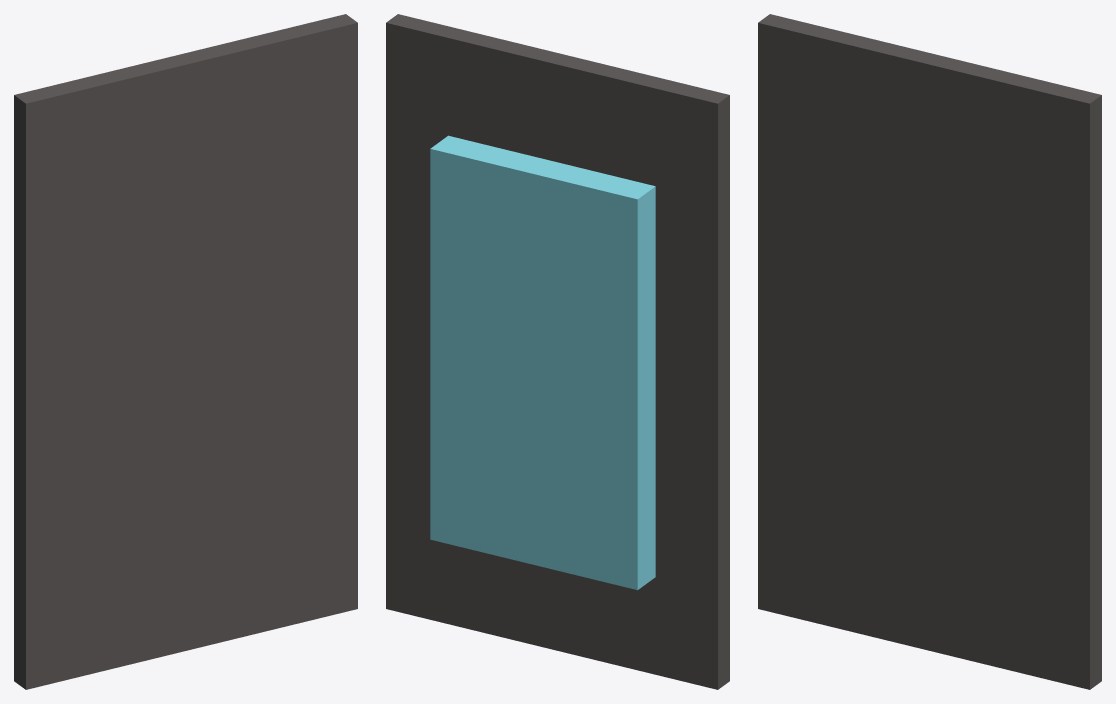
The model's file is lamp.glb.
The picture shows the model from 3 angles, left to right: view 1: azimuth 30°, elevation 25°; view 2: azimuth 150°, elevation 25°; view 3: azimuth 330°, elevation 25°; orthographic projection.
Visible parts, largest first — view 1: cuboid; view 2: cuboid (×2); view 3: cuboid.
Boxes of the visible parts, x1,y1,x2,y2 form: cuboid: (14, 14, 357, 689); cuboid (×2): (386, 14, 729, 689); cuboid: (758, 14, 1101, 689).
Size of the model in its own units: 0.2 by 0.3375 by 0.0313.
Materials: 2 (2 with a texture image).
